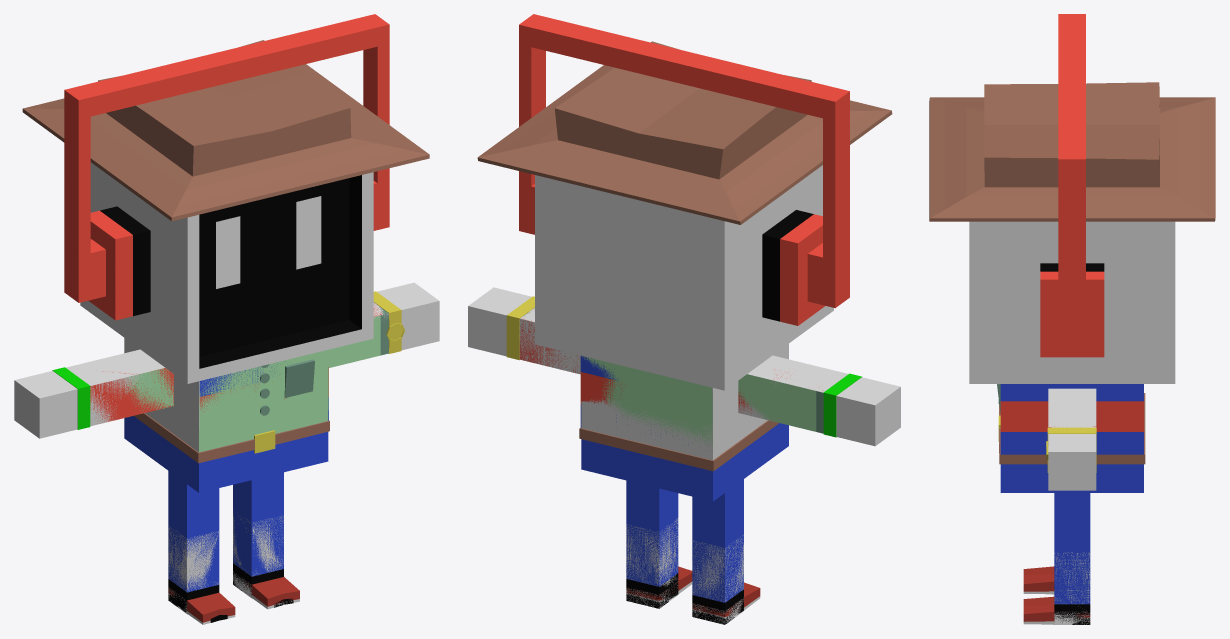
File: Robo_3.fbx
3 renders of one model, left to right at view 1: azimuth 30°, elevation 25°; view 2: azimuth 150°, elevation 25°; view 3: azimuth 270°, elevation 25°, orthographic. The views are drawn at different scales.
Visible parts, largest first — view 1: Head, Hat, Headphones, Shirt, Jeans, Legs, Body, Hand_Left, Sweater, Hand_Right, Ремень, Sneakers_Left (+5 smaller); view 2: Head, Hat, Headphones, Jeans, Body, Legs, Shirt, Hand_Left, Hand_Right, Sweater, Ремень, Boots_Left (+4 smaller); view 3: Hat, Head, Headphones, Sweater, Jeans, Legs, Hand_Right, Body, Ремень, Sneakers_Left, Sneakers_Right, Boots_Left (+1 smaller).
Boxes of the visible parts, x1,y1,x2,y2 form: Head: [80, 162, 373, 383]; Hat: [22, 40, 429, 221]; Headphones: [64, 14, 389, 320]; Shirt: [119, 306, 388, 452]; Jeans: [124, 416, 328, 592]; Legs: [124, 422, 328, 592]; Body: [66, 302, 388, 452]; Hand_Left: [14, 371, 77, 438]; Sweater: [90, 303, 382, 423]; Hand_Right: [377, 282, 439, 350]; Ремень: [134, 413, 329, 463]; Sneakers_Left: [245, 577, 299, 609]; Head: [535, 165, 833, 390]; Hat: [477, 41, 892, 224]; Headphones: [519, 14, 849, 325]; Jeans: [581, 424, 788, 602]; Body: [519, 307, 848, 460]; Legs: [581, 423, 788, 601]; Shirt: [524, 308, 823, 450]; Hand_Left: [836, 377, 900, 446]; Hand_Right: [468, 287, 531, 356]; Sweater: [519, 312, 823, 431]; Ремень: [579, 420, 778, 471]; Boots_Left: [626, 573, 678, 608]; Hat: [929, 82, 1215, 221]; Head: [969, 221, 1175, 383]; Headphones: [1040, 14, 1104, 357]; Sweater: [1000, 384, 1143, 454]; Jeans: [1000, 465, 1143, 604]; Legs: [1000, 464, 1143, 603]; Hand_Right: [1048, 434, 1096, 490]; Body: [1048, 388, 1096, 427]; Ремень: [998, 393, 1145, 464]; Sneakers_Left: [1023, 596, 1090, 624]; Sneakers_Right: [1023, 566, 1054, 594]; Boots_Left: [1054, 604, 1090, 624].
Bounding box in the file's own units: 430 × 278 × 553.
